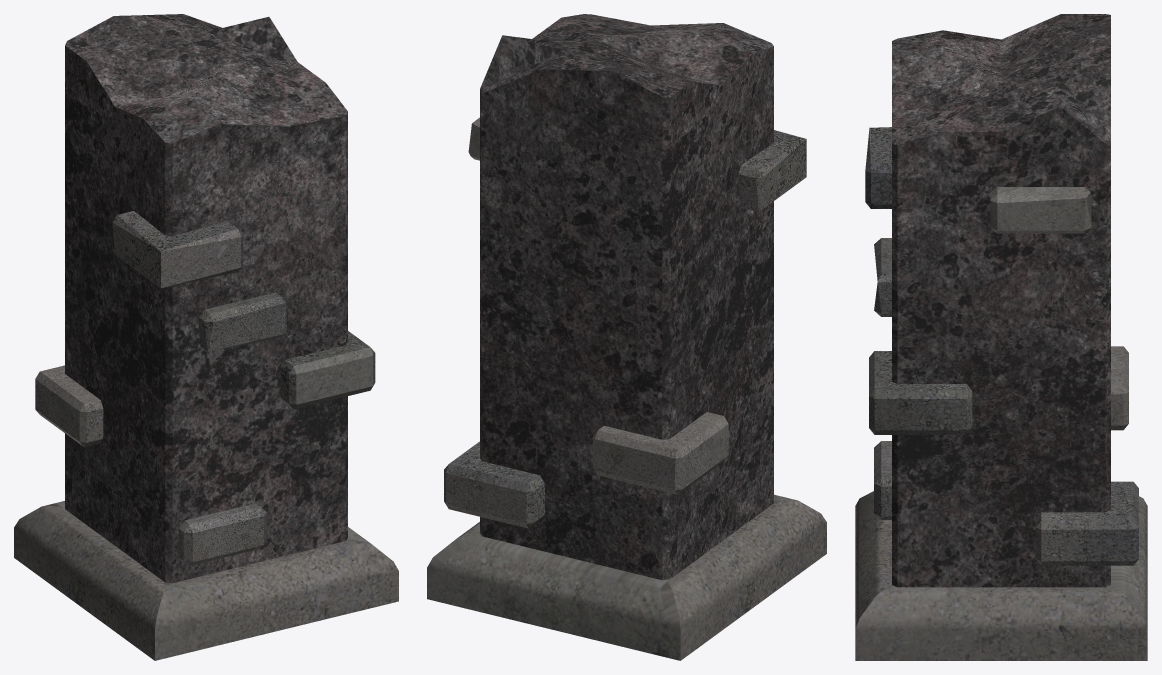
File: Pillar_crack1.fbx
3 renders of one model, left to right at view 1: azimuth 30°, elevation 25°; view 2: azimuth 150°, elevation 25°; view 3: azimuth 270°, elevation 25°, orthographic. The views are drawn at different scales.
Parts seen in each view (by area): view 1: Pillar_crack1; view 2: Pillar_crack1; view 3: Pillar_crack1.
Boxes of the visible parts, box(x1,y1,x2,y2) form: Pillar_crack1: box(14, 14, 398, 660); Pillar_crack1: box(427, 14, 826, 660); Pillar_crack1: box(855, 14, 1147, 660).
Size of the model in its own units: 1 by 2.09 by 1.
Materials: 1 (1 with a texture image).
